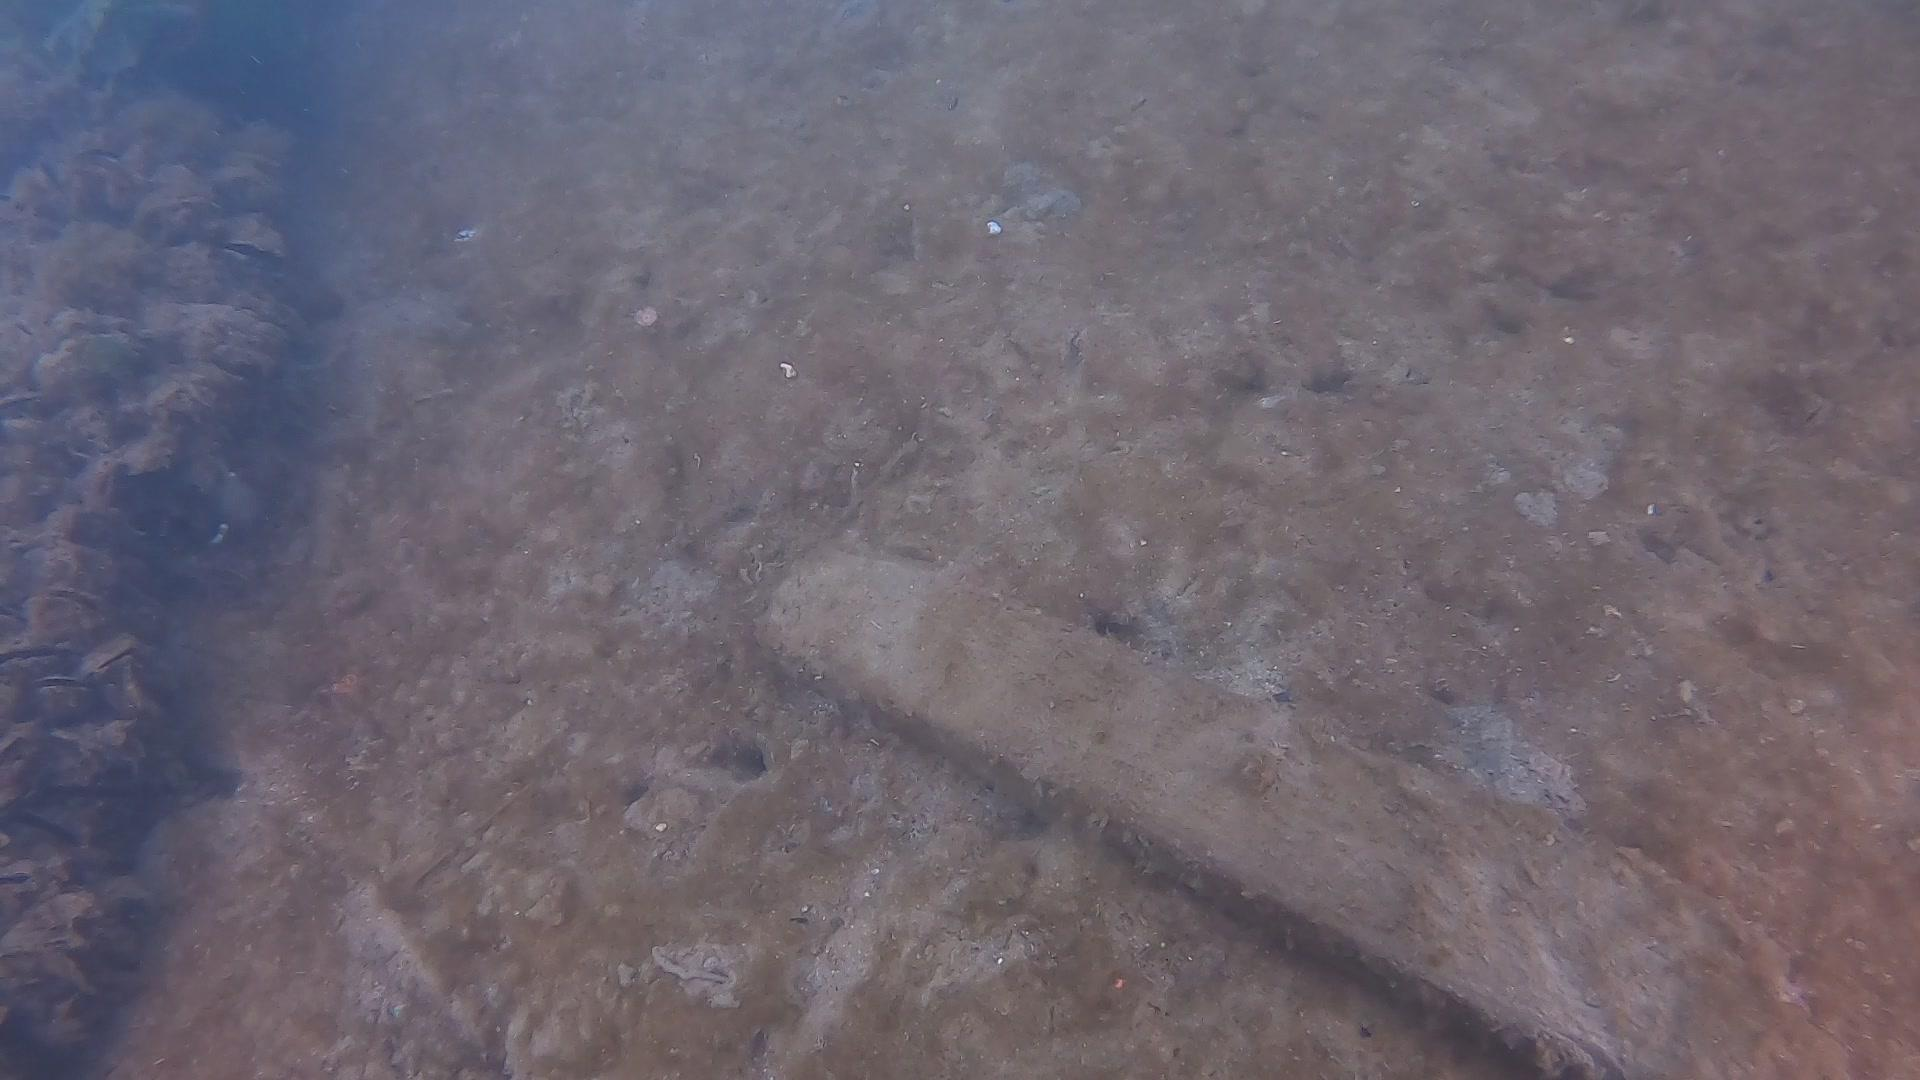wood: (752, 543, 1855, 1080)
